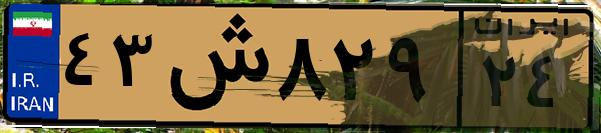2: (330, 28, 385, 110), (475, 38, 525, 113)
3: (110, 28, 158, 98)
4: (57, 26, 110, 100), (525, 38, 570, 115)
8: (270, 28, 330, 110)
9: (385, 28, 445, 110)
ش: (158, 12, 270, 120)
